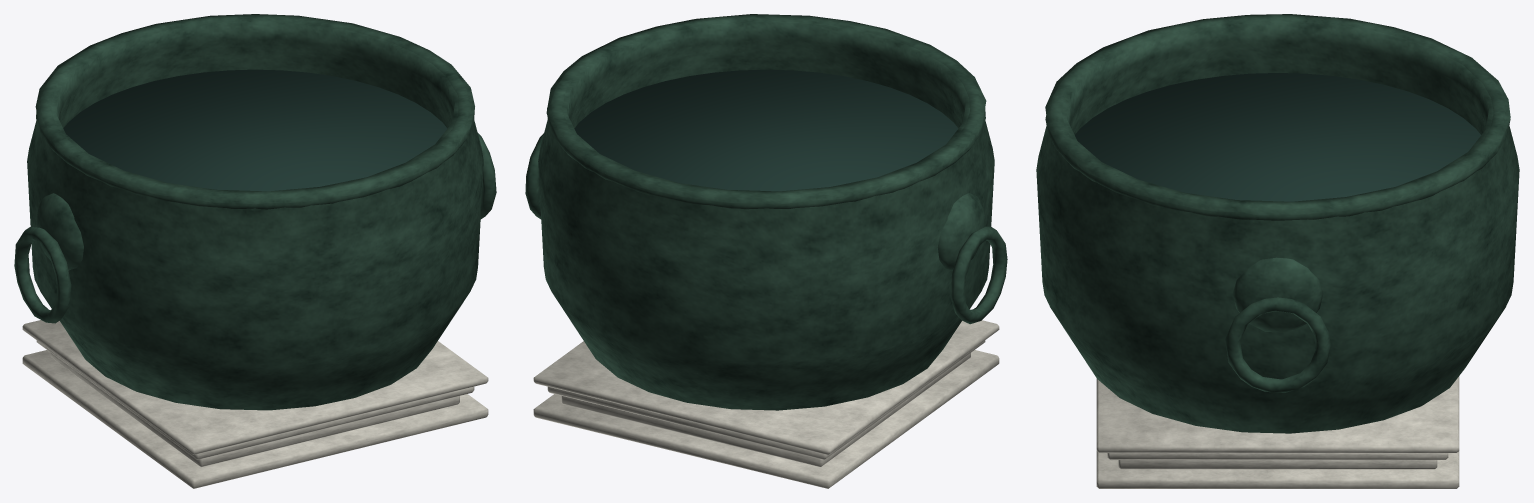
The model's file is vesiastia-pronssi.glb.
3 renders of one model, left to right at view 1: azimuth 30°, elevation 25°; view 2: azimuth 150°, elevation 25°; view 3: azimuth 270°, elevation 25°, orthographic. The views are drawn at different scales.
Parts seen in each view (by area): view 1: vihrea-pronssipatina, vesi, vaalea-kivi; view 2: vihrea-pronssipatina, vesi, vaalea-kivi; view 3: vihrea-pronssipatina, vesi, vaalea-kivi.
Part boxes in pixels (box(x1,y1,x2,y2)): vihrea-pronssipatina: box(14, 14, 496, 410); vesi: box(63, 69, 447, 191); vaalea-kivi: box(22, 320, 488, 488); vihrea-pronssipatina: box(525, 14, 1007, 410); vesi: box(574, 69, 958, 191); vaalea-kivi: box(533, 320, 999, 488); vihrea-pronssipatina: box(1036, 14, 1519, 433); vesi: box(1075, 73, 1480, 201); vaalea-kivi: box(1096, 376, 1459, 488).
Bounding box in the file's own units: 1.75 × 1.1 × 1.59.
3 materials, 2 textured.
